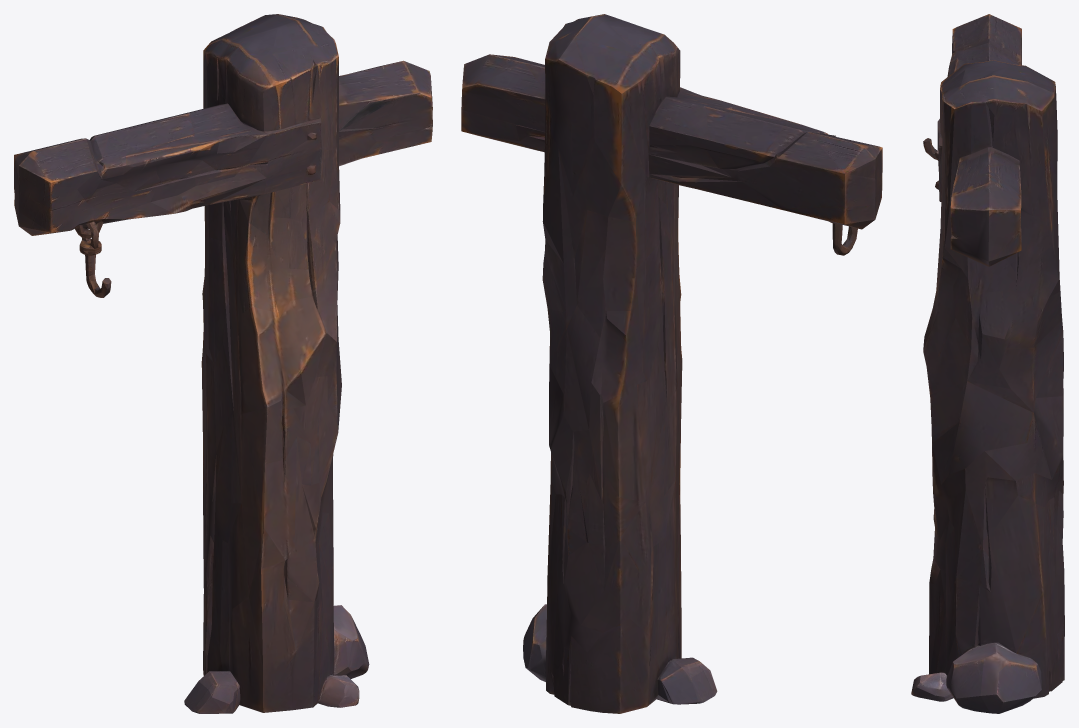
Rendered from post-_fgtgUhh.glb.
The picture shows the model from 3 angles, left to right: view 1: azimuth 30°, elevation 25°; view 2: azimuth 150°, elevation 25°; view 3: azimuth 270°, elevation 25°; orthographic projection. The views are drawn at different scales.
Size of the model in its own units: 1.24 by 1.9 by 0.4314.
Materials: 1 (1 with a texture image).
